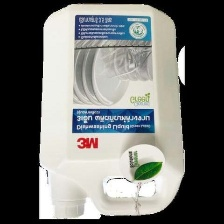cleaning_solution: (35, 0, 187, 221)
